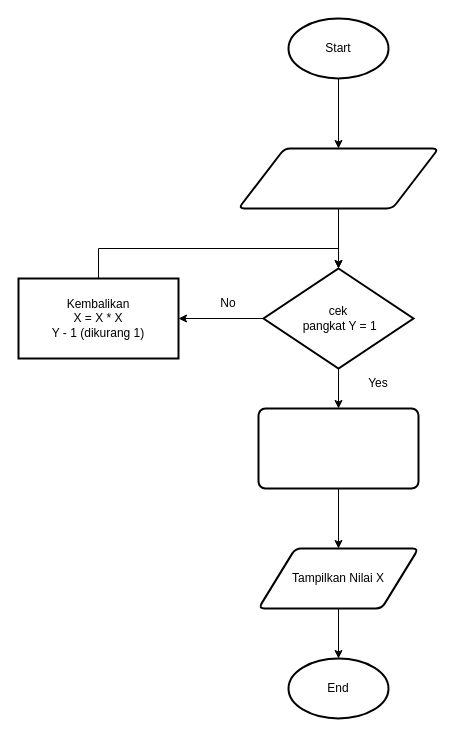
This 456x736 diagram has some shape labels left out. The shapes that lost their labels are listed below. From the top down, each one's centre as x and y in pixels, then its label:
[338,178]: Masukan Nilai X Masukan Pangkat Y
[338,448]: Kembalikan Nilai X
